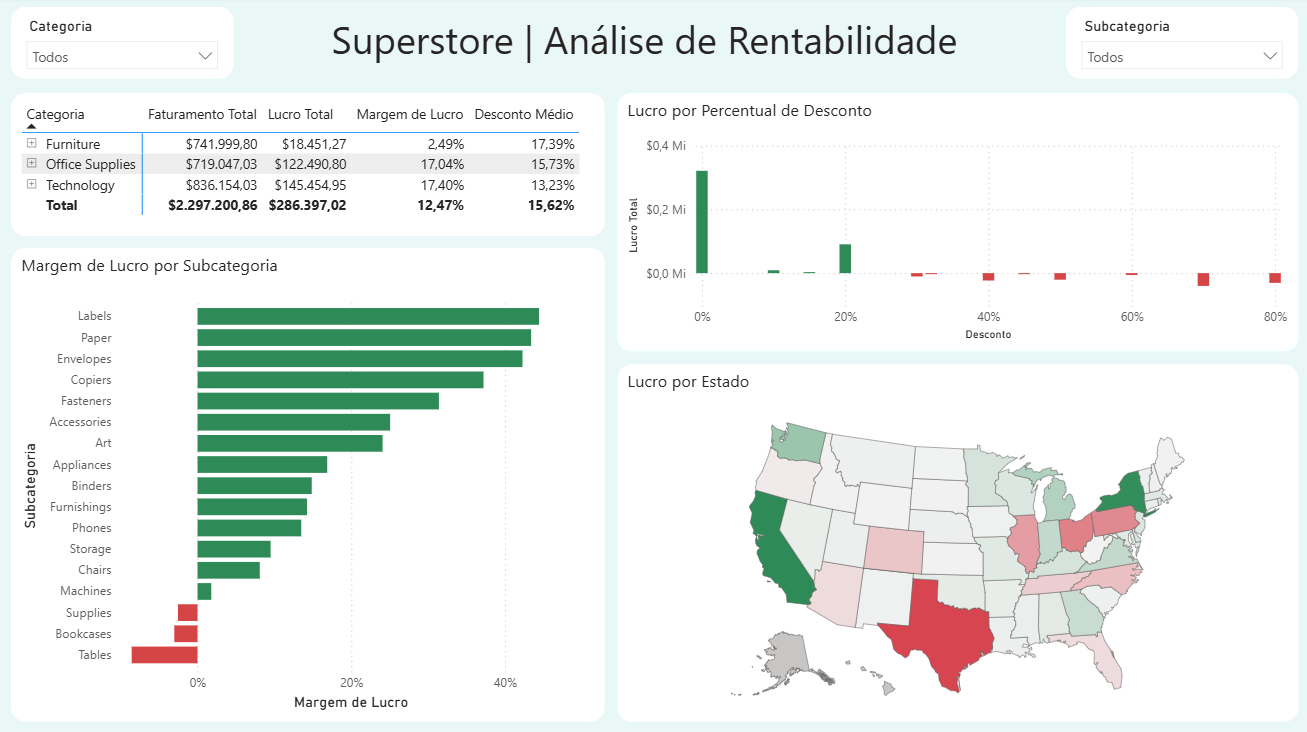

What the dashboard file says about the page in this screenshot:
{"tool":"powerbi","page":{"name":"Rentabilidade","canvas":[1280,720],"ordinal":1},"visuals":[{"type":"textbox","box":[320.4,12.2,639.5,68.5],"z":0},{"type":"slicer","fields":{"Values":["Orders.Category"]},"box":[11,9.8,218.9,72.1],"z":1000},{"type":"slicer","fields":{"Values":["Orders.Sub-Category"]},"box":[1043.1,9.8,228.7,72.1],"z":2000},{"type":"clusteredColumnChart","title":"Lucro por Percentual de Desconto","fields":{"Category":["Orders.Discount"],"Y":["Orders.Lucro Total"]},"box":[604.1,94.2,667.7,254.3],"z":3000},{"type":"clusteredBarChart","title":"Margem de Lucro por Subcategoria","fields":{"Category":["Orders.Sub-Category"],"Y":["Orders.Margem de Lucro"]},"box":[11,245.8,582.1,464.7],"z":4000},{"type":"pivotTable","title":"Resumo de Lucro por Subcategoria","fields":{"Rows":["Orders.Category","Orders.Sub-Category"],"Values":["Orders.Faturamento Total","Orders.Lucro Total","Orders.Margem de Lucro","Orders.Desconto Médio"]},"box":[11,94.2,582.1,141.8],"z":5000},{"type":"shapeMap","title":"Lucro por Estado","fields":{"Category":["Orders.State"],"Value":["Orders.Lucro Total"]},"box":[604.1,359.5,667.7,351],"z":6000}]}

Visuals, with their boxes in screenshot pixels (x1, y1, x2, y2), scaled from the page's 1280x720 canvas onto the 1307x732 screenshot:
textbox: [left=327, top=12, right=980, bottom=82]
slicer - Orders.Category: [left=11, top=10, right=235, bottom=83]
slicer - Orders.Sub-Category: [left=1065, top=10, right=1299, bottom=83]
"Lucro por Percentual de Desconto" clusteredColumnChart: [left=617, top=96, right=1299, bottom=354]
"Margem de Lucro por Subcategoria" clusteredBarChart: [left=11, top=250, right=606, bottom=722]
"Resumo de Lucro por Subcategoria" pivotTable: [left=11, top=96, right=606, bottom=240]
"Lucro por Estado" shapeMap: [left=617, top=365, right=1299, bottom=722]
